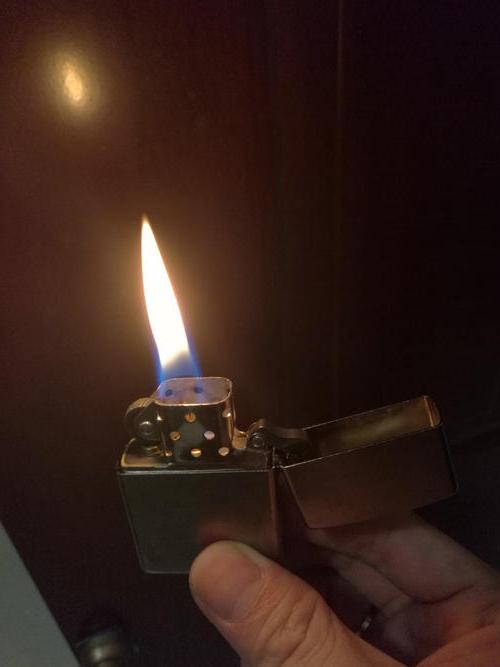fire: (130, 210, 213, 414)
